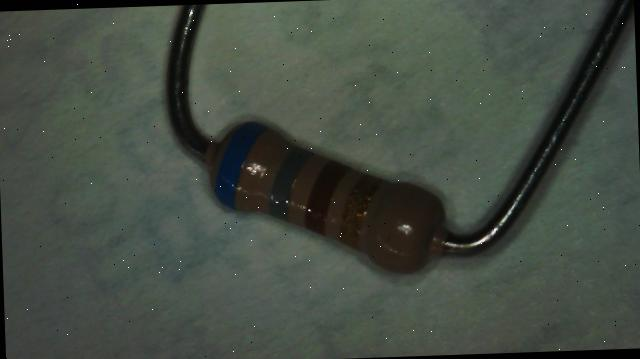blue: (213, 122, 272, 211)
brown: (304, 160, 352, 236)
gold: (340, 174, 384, 248)
grey: (267, 146, 313, 220)
resistor: (158, 82, 480, 321)
